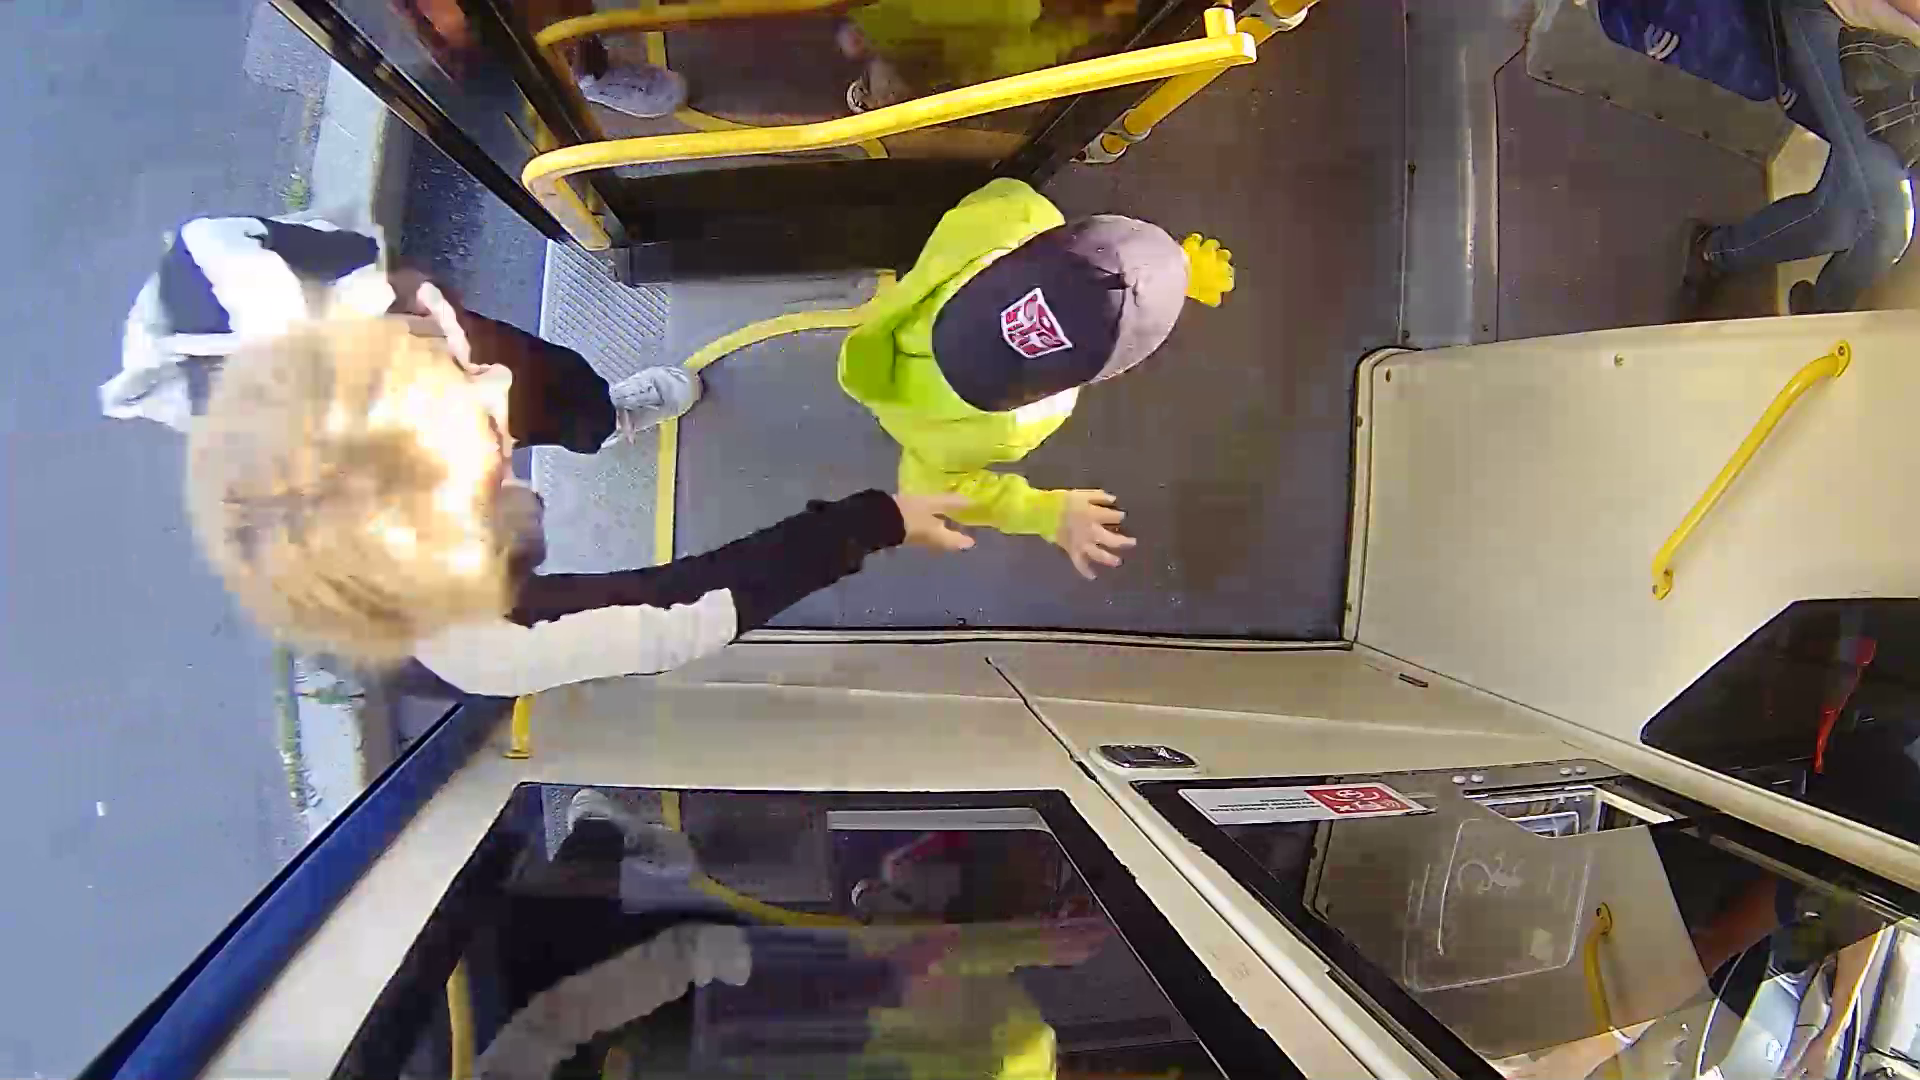person: (98, 165, 793, 760)
